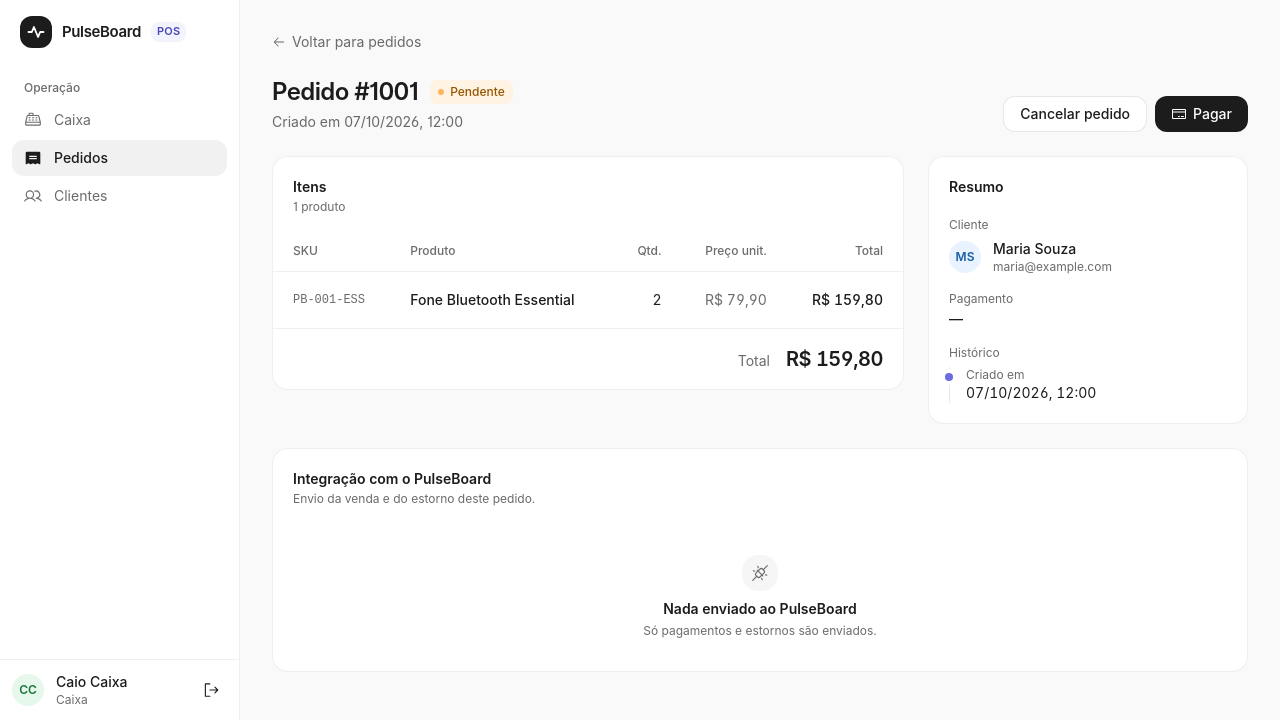
Test case: orders › pays a pending order with the chosen method
The width and height of the screenshot is (1280, 720).
Click the button "Pagar" at {"x": 1202, "y": 114}, box left=1155, top=96, right=1248, bottom=132
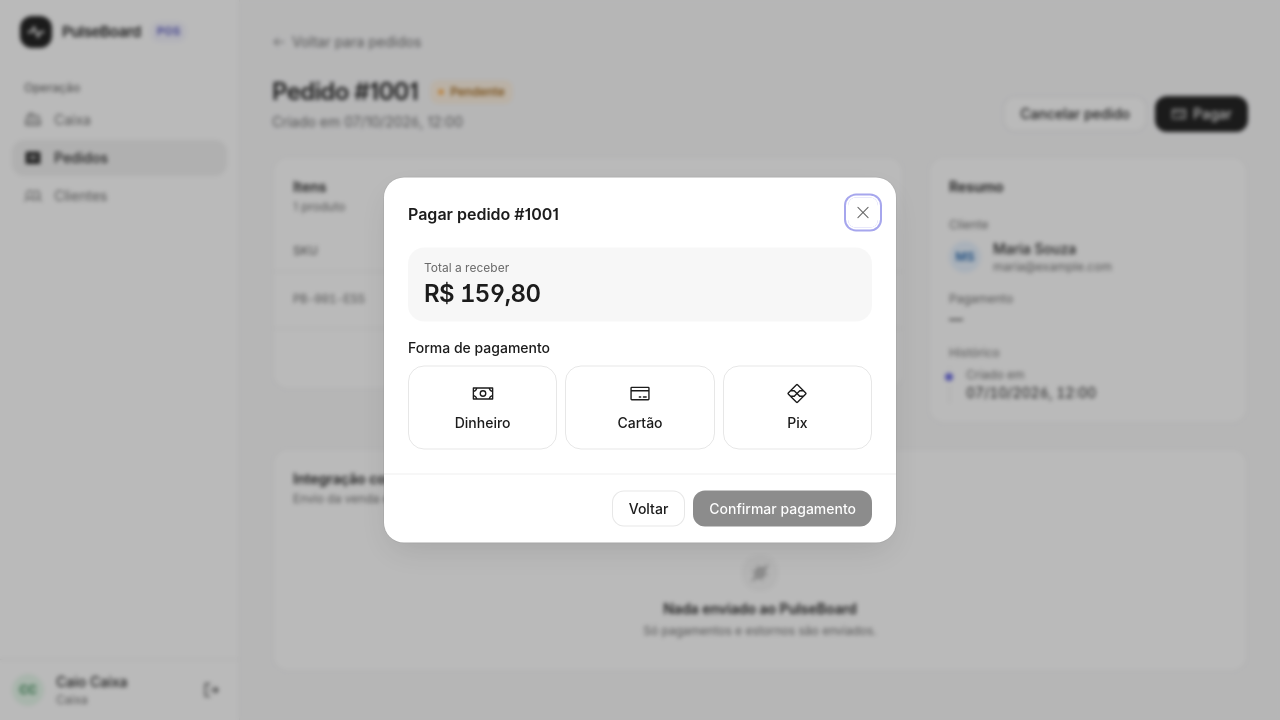
Now the button "Confirmar pagamento" is disabled, box left=693, top=490, right=872, bottom=526
Click the radio button labelled "Dinheiro" at {"x": 483, "y": 408}, box left=408, top=366, right=557, bottom=450
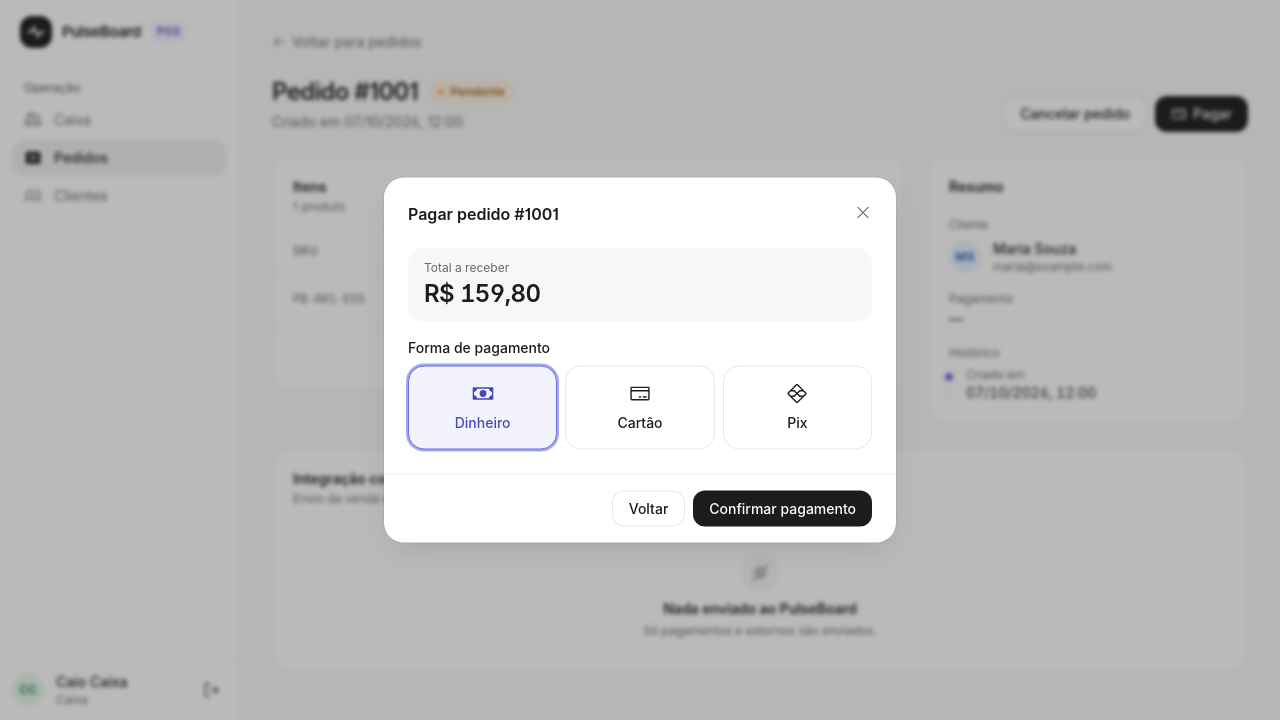
Click the button "Confirmar pagamento" at {"x": 783, "y": 508}, box left=693, top=490, right=872, bottom=526
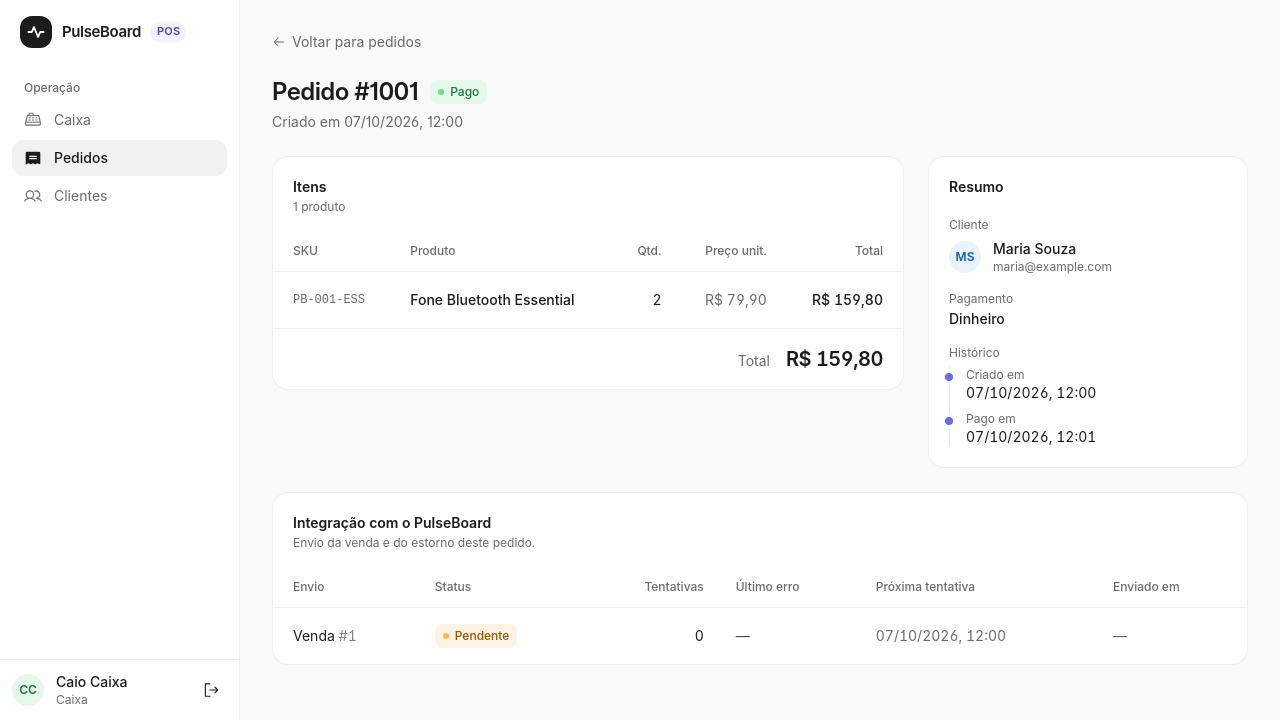
Now the text "Pago" is shown, box left=430, top=80, right=487, bottom=104
Now the button "Cancelar pedido" is gone
